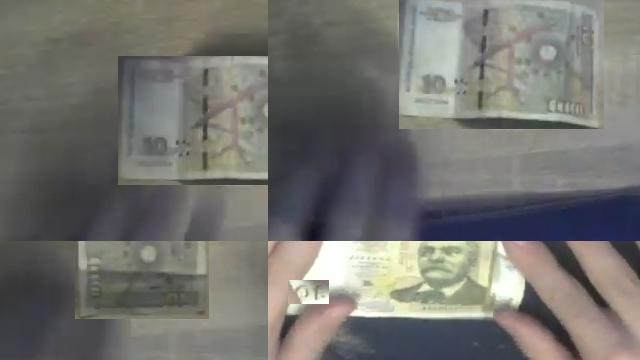10leva: (399, 0, 604, 129), (118, 56, 268, 183), (75, 241, 209, 319), (288, 280, 329, 303)
